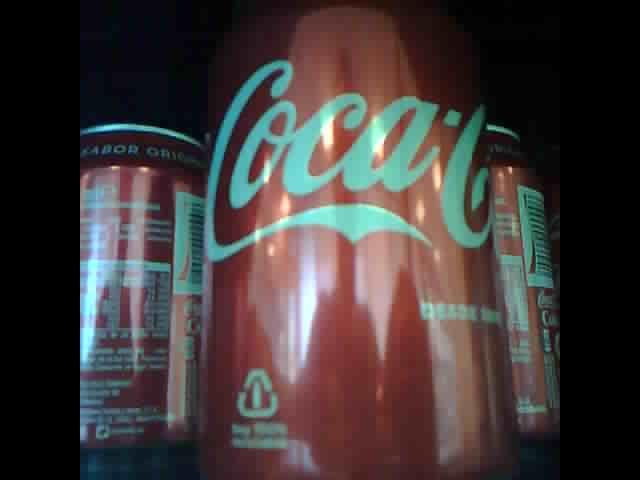coca cola: (195, 3, 492, 476), (82, 120, 197, 468), (481, 111, 559, 456)
